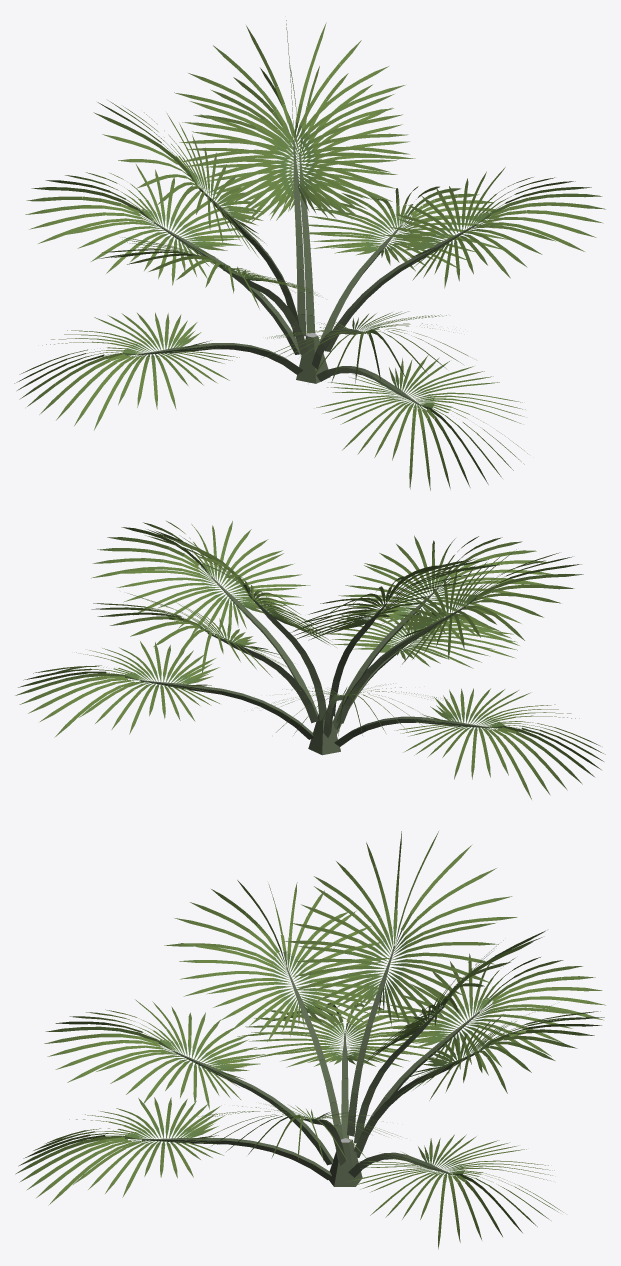
File: Тропическая трава.FBX
The picture shows the model from 3 angles, top to bottom: view 1: azimuth 30°, elevation 25°; view 2: azimuth 150°, elevation 25°; view 3: azimuth 270°, elevation 25°; orthographic projection. The views are drawn at different scales.
Parts seen in each view (by area): view 1: PLMB_MLEAF, PLMB_BRANC, PLMB_ELEAF, PLMB_BLEAF, PLMB_TRUNK; view 2: PLMB_MLEAF, PLMB_BRANC, PLMB_ELEAF, PLMB_BLEAF, PLMB_TRUNK; view 3: PLMB_MLEAF, PLMB_BRANC, PLMB_ELEAF, PLMB_BLEAF, PLMB_TRUNK.
Boxes of the visible parts, bbox=[...] form: PLMB_MLEAF: bbox=[31, 31, 587, 475]; PLMB_BRANC: bbox=[138, 140, 476, 405]; PLMB_ELEAF: bbox=[14, 20, 605, 490]; PLMB_BLEAF: bbox=[122, 120, 492, 410]; PLMB_TRUNK: bbox=[296, 333, 330, 383]; PLMB_MLEAF: bbox=[31, 523, 590, 786]; PLMB_BRANC: bbox=[140, 576, 489, 746]; PLMB_ELEAF: bbox=[15, 521, 605, 799]; PLMB_BLEAF: bbox=[122, 562, 504, 730]; PLMB_TRUNK: bbox=[308, 708, 340, 755]; PLMB_MLEAF: bbox=[30, 843, 587, 1236]; PLMB_BRANC: bbox=[141, 945, 479, 1179]; PLMB_ELEAF: bbox=[15, 831, 605, 1249]; PLMB_BLEAF: bbox=[122, 927, 493, 1176]; PLMB_TRUNK: bbox=[329, 1138, 362, 1186].
Bounding box in the file's own units: 66.68 × 32.26 × 63.66.
